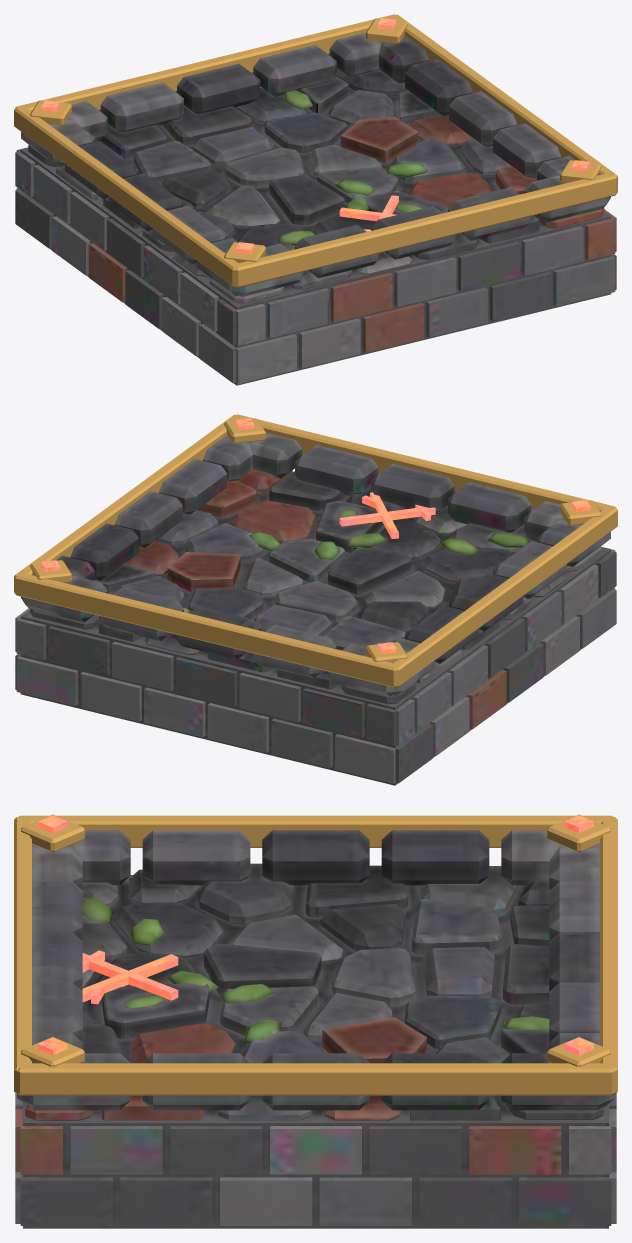
Rendered from plate_3_war.glb.
3 renders of one model, top to bottom at view 1: azimuth 30°, elevation 25°; view 2: azimuth 150°, elevation 25°; view 3: azimuth 270°, elevation 25°, orthographic. The views are drawn at different scales.
Parts seen in each view (by area): view 1: plate_3_war; view 2: plate_3_war; view 3: plate_3_war.
Part boxes in pixels (x1=…): plate_3_war: x1=14, y1=14, x2=617, y2=385; plate_3_war: x1=14, y1=414, x2=617, y2=785; plate_3_war: x1=14, y1=814, x2=617, y2=1228.
Bounding box in the file's own units: 2.02 × 0.635 × 2.02.
Materials: 2 (1 with a texture image).
